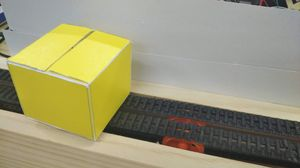box4: (5, 21, 132, 142)
